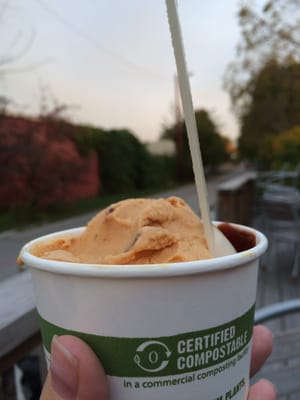pizza: (22, 203, 269, 400)
